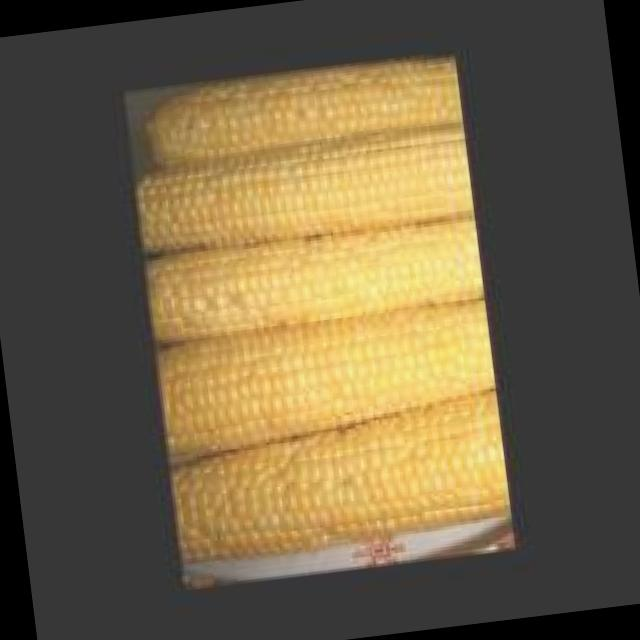corn: (132, 54, 520, 590)
